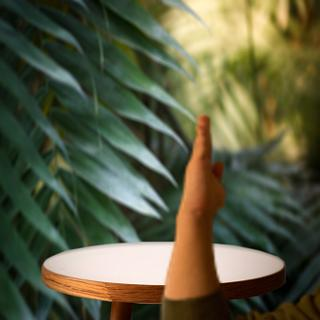RIGHT: (172, 109, 233, 232)
